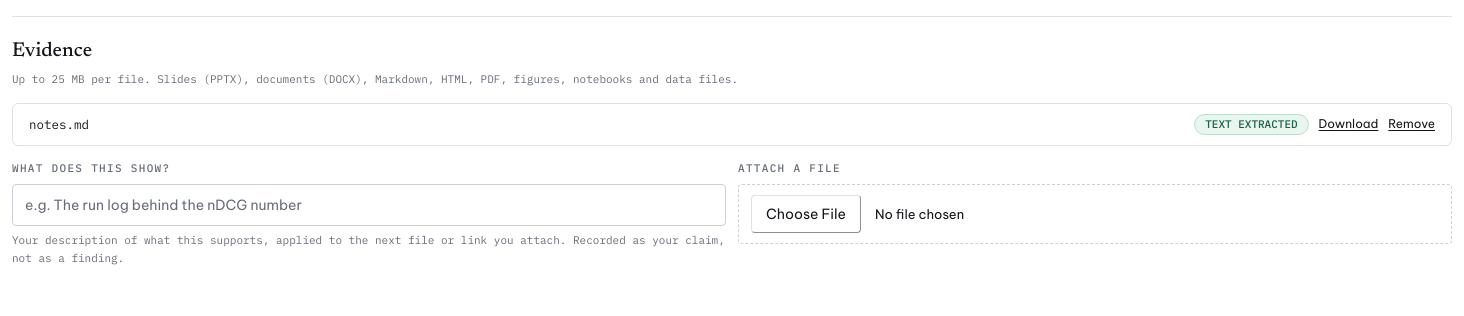
Scenario: a download that fails says so on the screen
The width and height of the screenshot is (1464, 316).
Click the button "Download" at point(1348, 124), box [1319,116,1378,132]
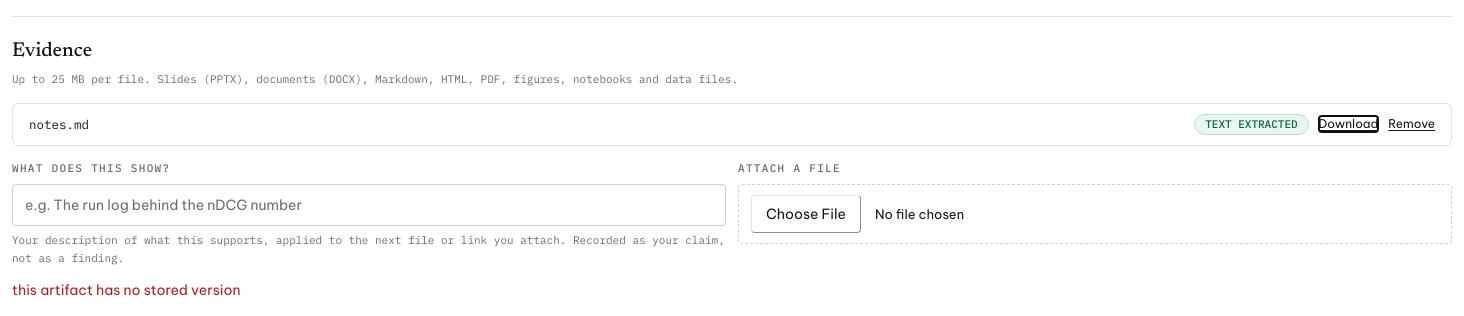
Result: the message with test id "attachment-error" shows "no stored version" at [12,281,241,299]
